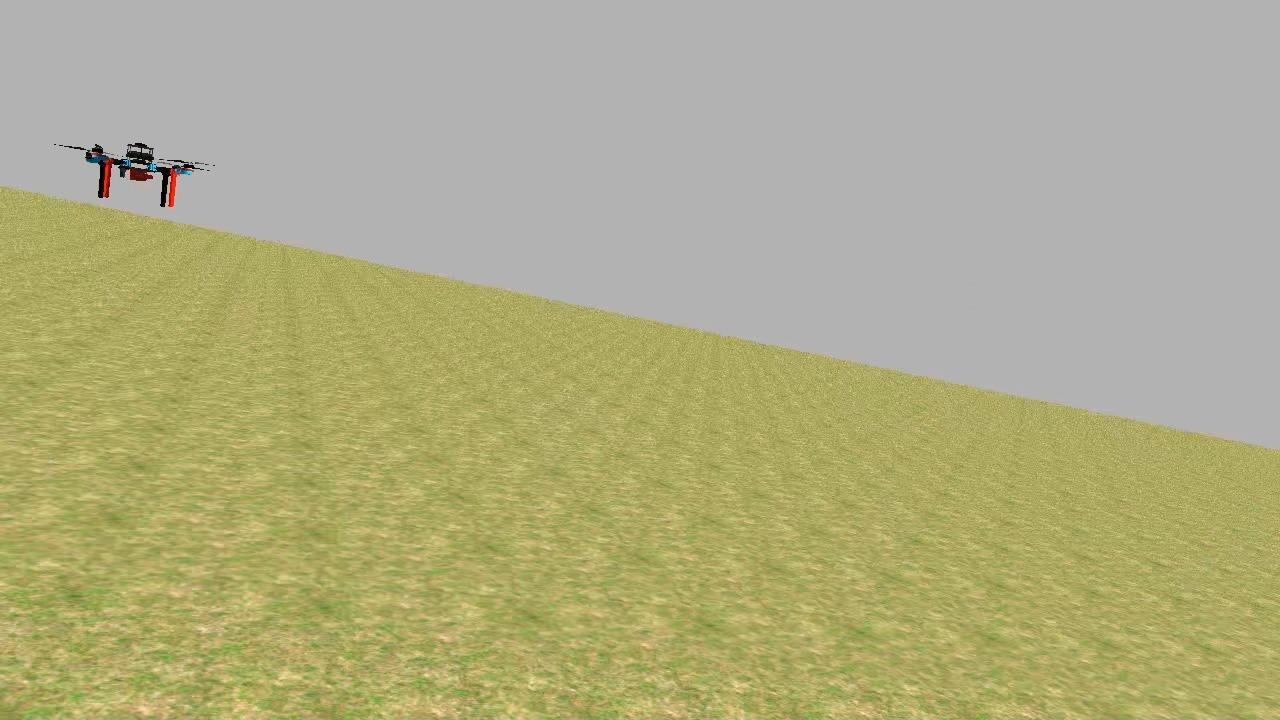UAV: (74, 136, 210, 216)
